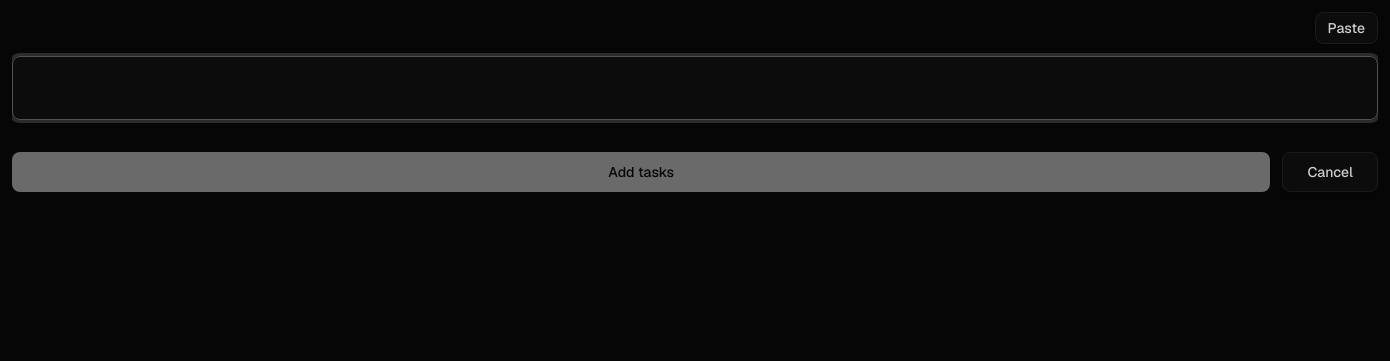
Test: Network Error Handling › shows user-friendly error messages
The image size is (1390, 361).
In the text box: [695, 88] box x1=12 y1=56 x2=1378 y2=120, type "Test task"
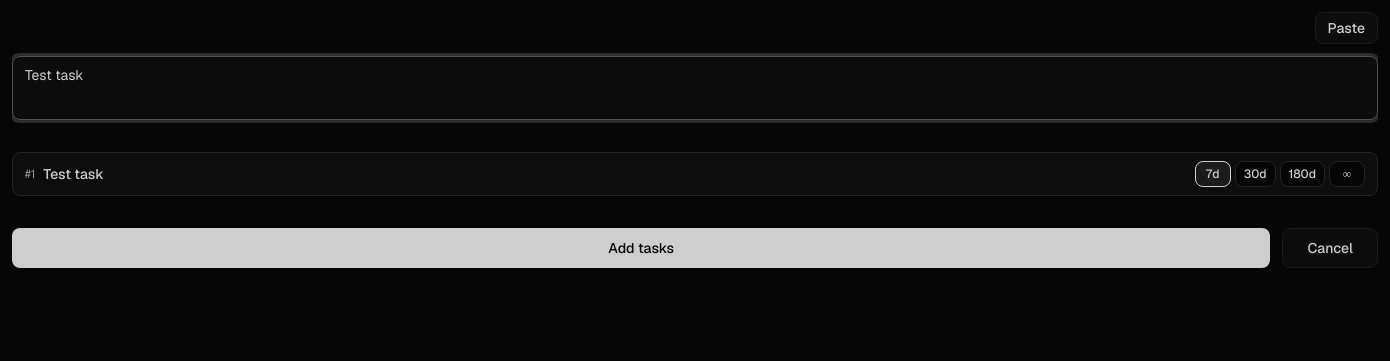
Submit the form "Paste #1 Test task 7d 30d 180d ∞ Add tasks Cancel"
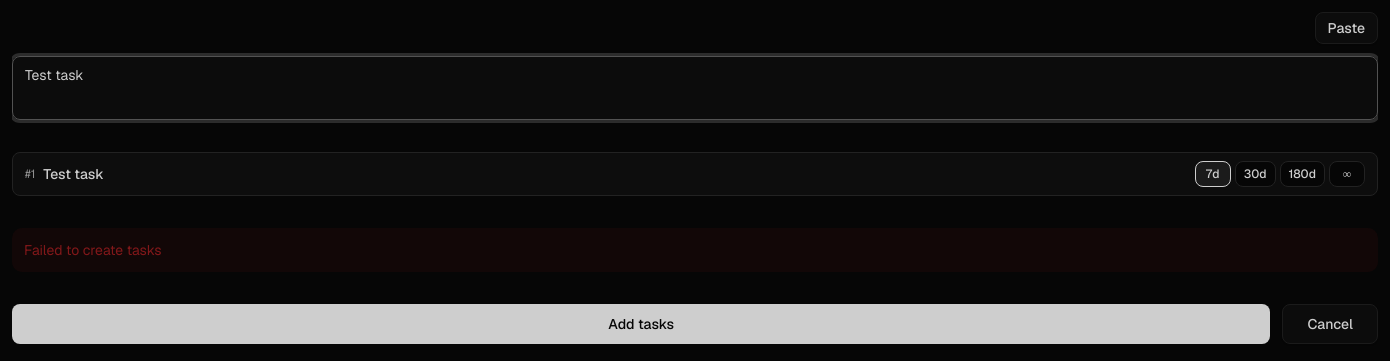
Check: the text "Failed to create tasks" is shown, box x1=12 y1=228 x2=1378 y2=272
